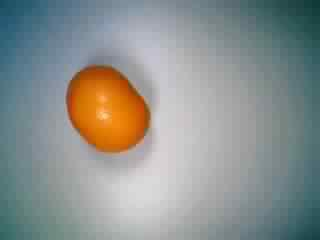orange: (59, 58, 156, 156)
